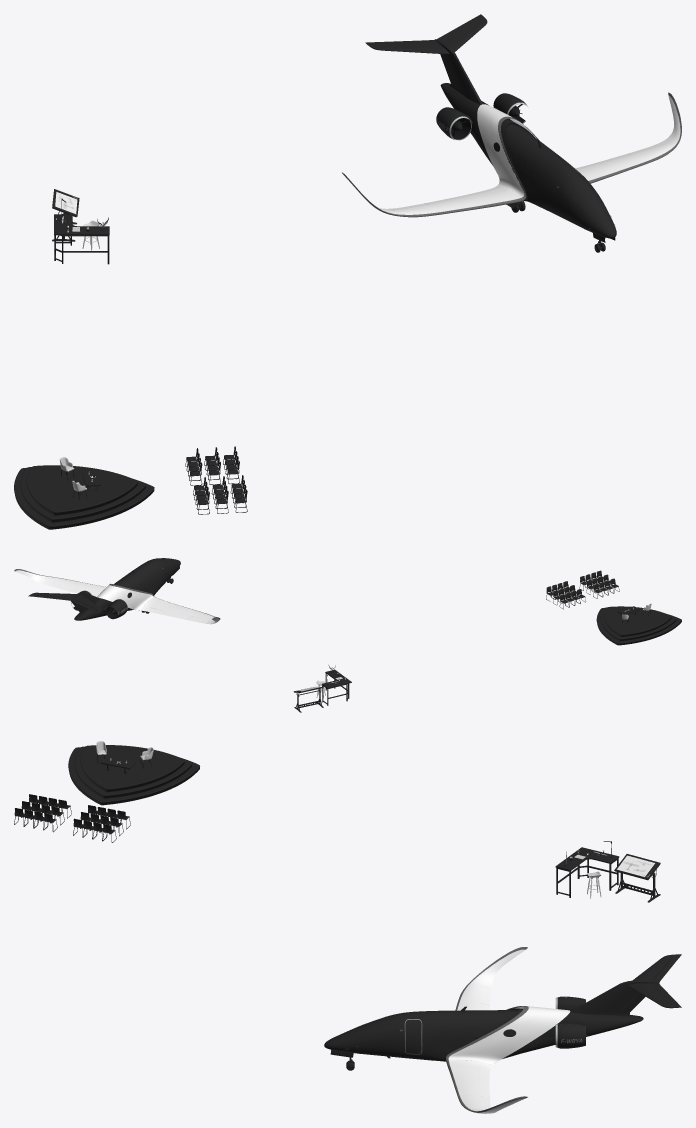
File: homescene.glb
3 renders of one model, top to bottom at view 1: azimuth 30°, elevation 25°; view 2: azimuth 150°, elevation 25°; view 3: azimuth 270°, elevation 25°, orthographic. The views are drawn at different scales.
Visible parts, largest first — view 1: Elements, Aileron, Wings, Desk Elements, Engines; view 2: Elements, Wings, Aileron, Desk Elements, Engines; view 3: Aileron, Elements, Wings, Desk Elements, Engines.
Part boxes in pixels (x1=…): Elements: x1=14, y1=446, x2=247, y2=529; Aileron: x1=365, y1=14, x2=616, y2=238; Wings: x1=342, y1=92, x2=681, y2=217; Desk Elements: x1=52, y1=119, x2=615, y2=264; Engines: x1=436, y1=93, x2=527, y2=140; Elements: x1=546, y1=570, x2=681, y2=645; Wings: x1=14, y1=569, x2=220, y2=624; Aileron: x1=28, y1=558, x2=180, y2=620; Desk Elements: x1=112, y1=558, x2=351, y2=712; Engines: x1=71, y1=590, x2=127, y2=619; Aileron: x1=324, y1=954, x2=681, y2=1061; Elements: x1=14, y1=741, x2=199, y2=842; Wings: x1=446, y1=947, x2=570, y2=1113; Desk Elements: x1=330, y1=841, x2=660, y2=1070; Engines: x1=555, y1=996, x2=588, y2=1048.
Size of the model in its own units: 53.24 by 5.59 by 38.05.
Materials: 9 (5 with a texture image).
